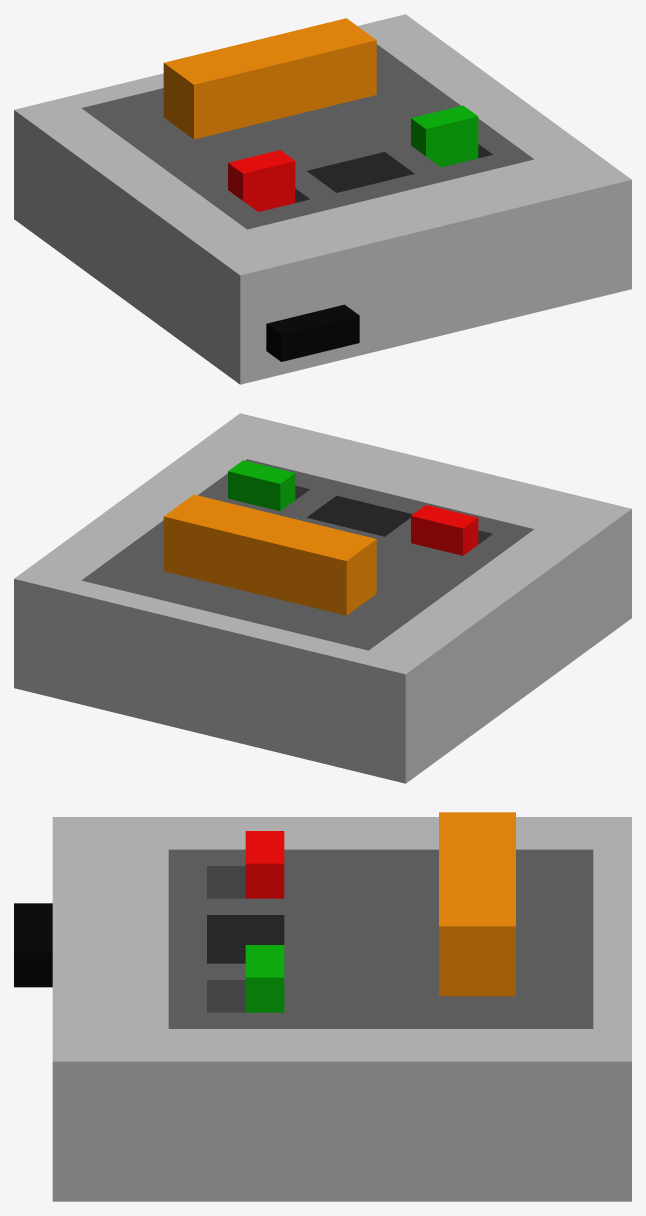
File: console_cartuccia.gltf
3 renders of one model, top to bottom at view 1: azimuth 30°, elevation 25°; view 2: azimuth 150°, elevation 25°; view 3: azimuth 270°, elevation 25°, orthographic. The views are drawn at different scales.
Parts seen in each view (by area): view 1: Layer.1; view 2: Layer.1; view 3: Layer.1.
Part boxes in pixels (bbox=[...]): Layer.1: bbox=[14, 14, 631, 384]; Layer.1: bbox=[14, 413, 631, 783]; Layer.1: bbox=[14, 812, 631, 1201].
Bounding box in the file's own units: 15 × 6 × 16.
Materials: 1 (1 with a texture image).
